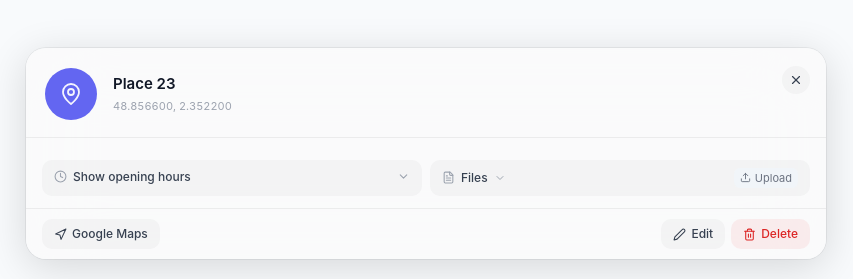
Test: PlaceInspector › FE-PLANNER-INSPECTOR-042: opening hours converted to 12h when setting is 12h
Click the button "Show opening hours": (132, 176) [42, 160, 422, 194]
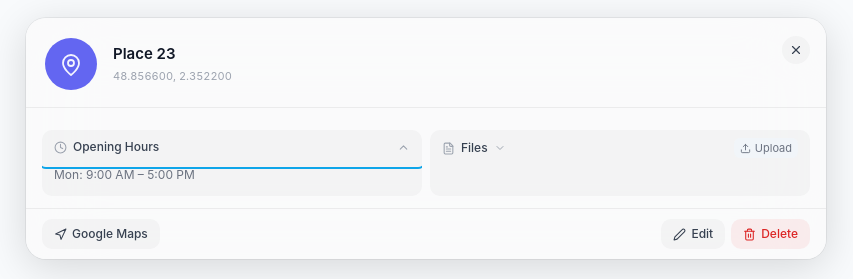
Result: the text "Mon: 9:00 AM – 5:00 PM" is shown at [54, 167, 195, 182]
